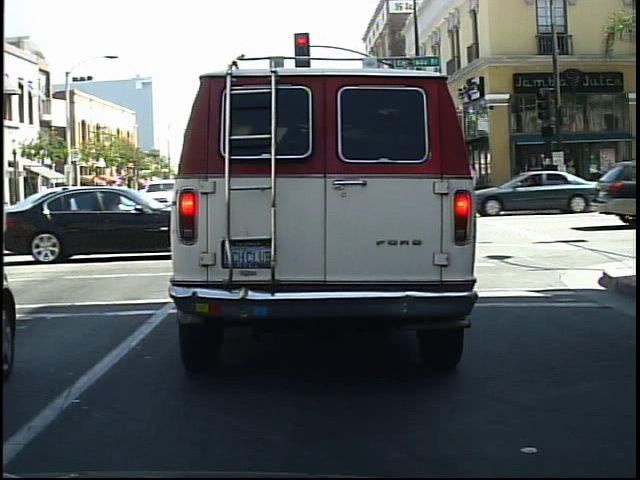person: (536, 154, 562, 208), (535, 147, 556, 209), (516, 157, 539, 205), (548, 158, 569, 208)
